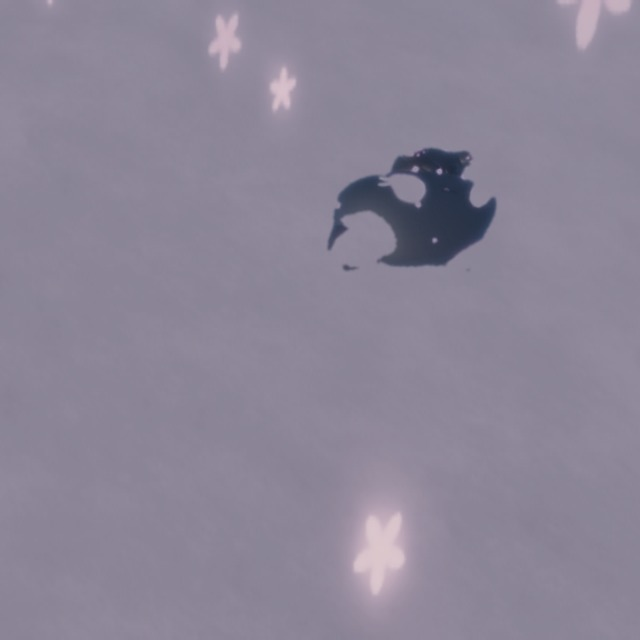urso_preto: (289, 120, 535, 307)
